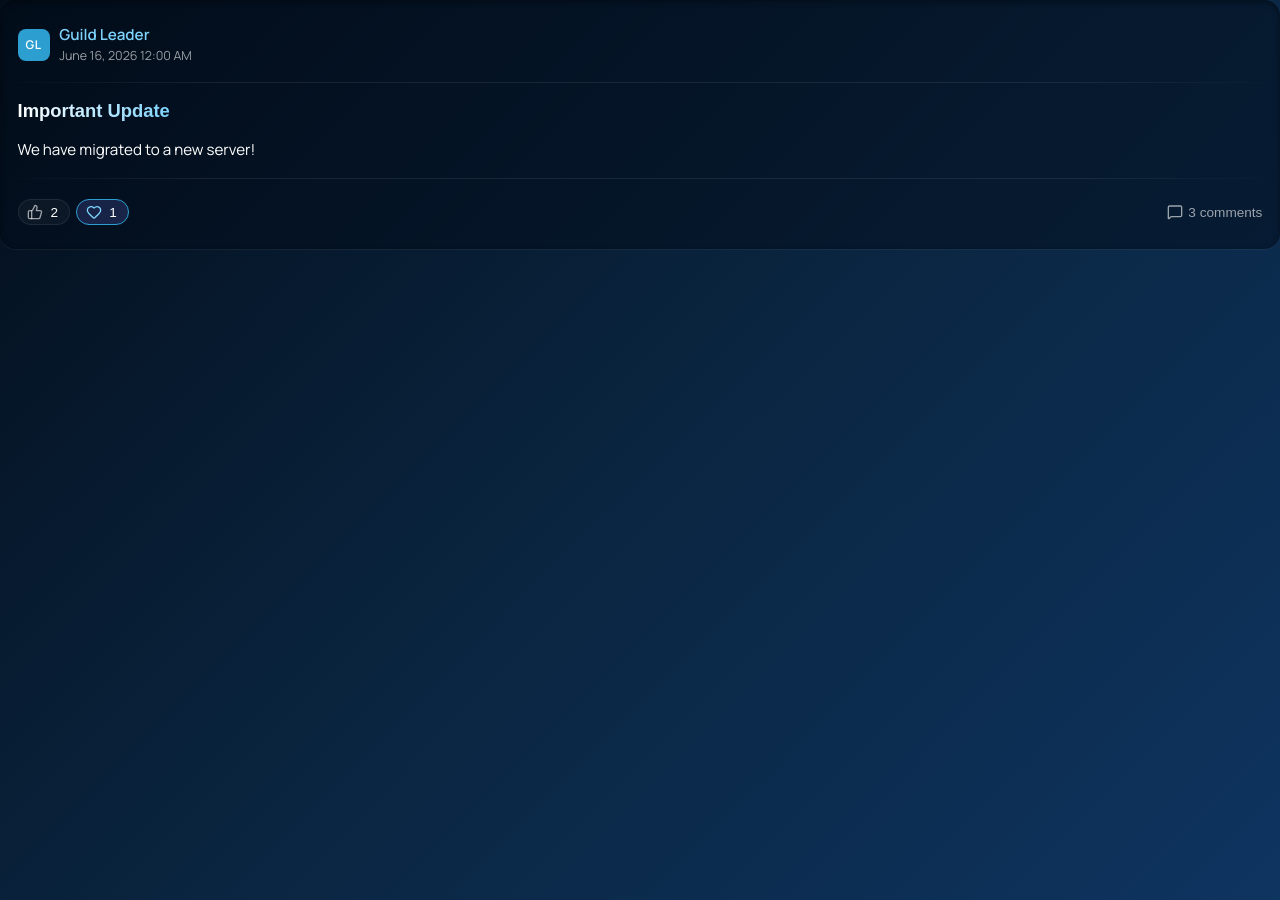
it: AnnouncementCard › shows comment count and toggles comments section on click
Expected: the field with placeholder "commentPlaceholder" is not shown
// Click to open comments
Click the button "3 comments". click: point(1215, 212)
box: [1167,204,1262,220]
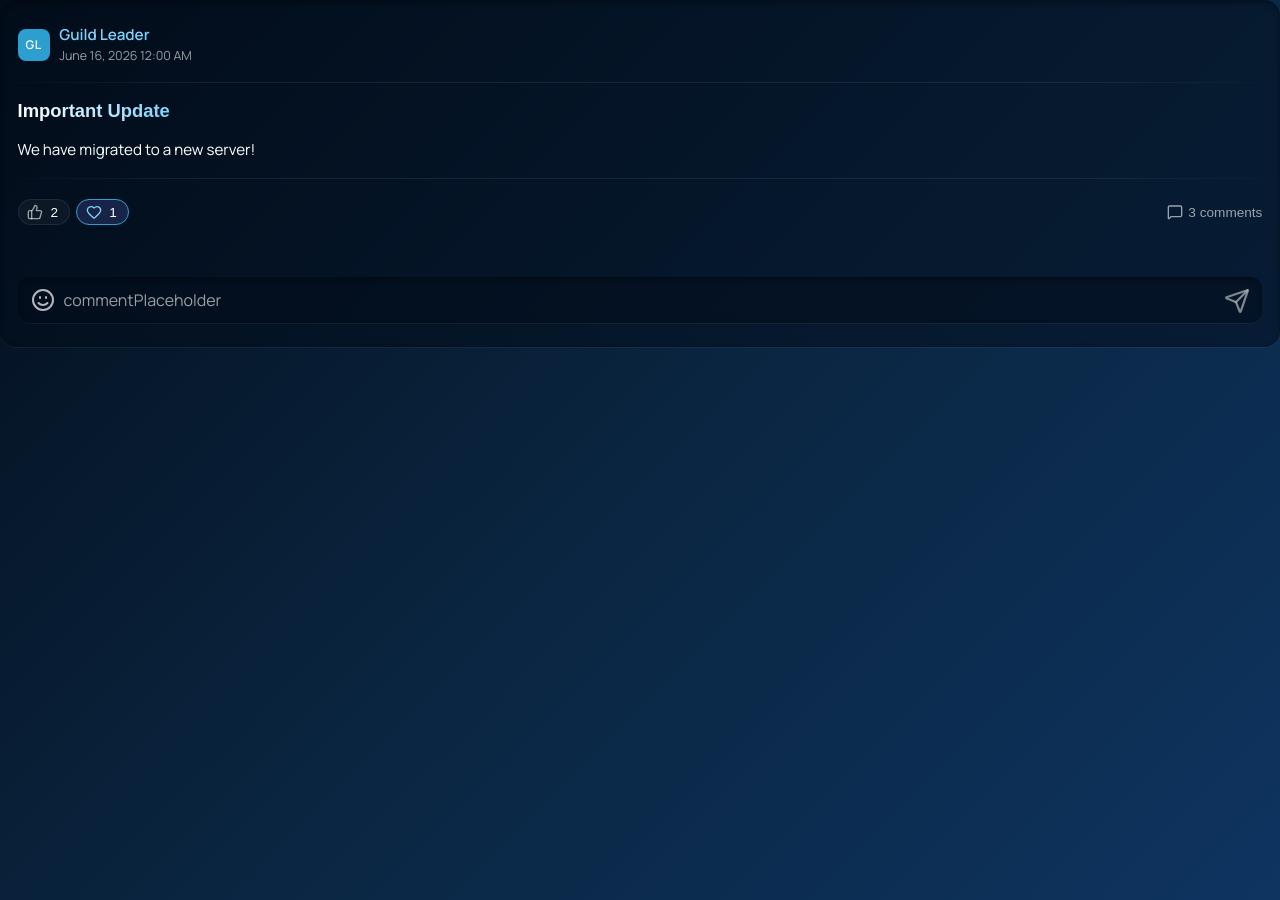
Expected: the text box with placeholder "commentPlaceholder" is shown, [18,277,1262,323]
